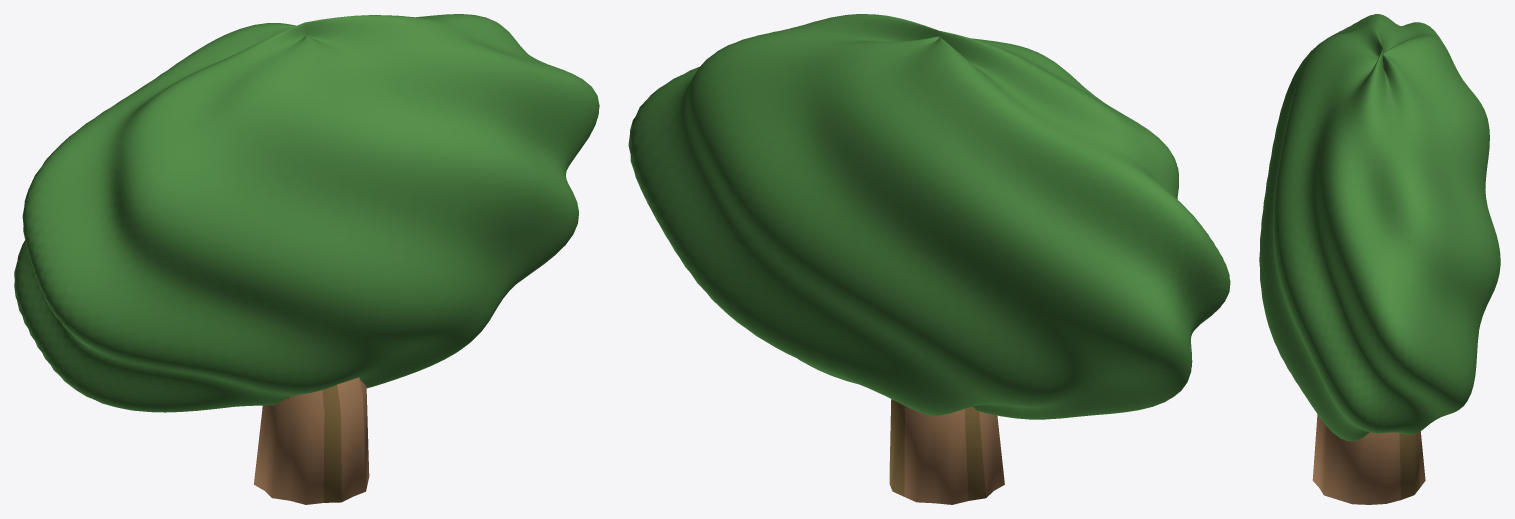
File: 04_g3640_6_broad_tree.glb
3 renders of one model, left to right at view 1: azimuth 30°, elevation 25°; view 2: azimuth 150°, elevation 25°; view 3: azimuth 270°, elevation 25°, orthographic. The views are drawn at different scales.
Parts seen in each view (by area): view 1: Wide flattened organic crown, Short stout broad tree trunk; view 2: Wide flattened organic crown, Short stout broad tree trunk; view 3: Wide flattened organic crown, Short stout broad tree trunk.
Part boxes in pixels (left/top/right/bottom): Wide flattened organic crown: left=14, top=14, right=599, bottom=412; Short stout broad tree trunk: left=254, top=377, right=369, bottom=504; Wide flattened organic crown: left=628, top=14, right=1230, bottom=419; Short stout broad tree trunk: left=889, top=399, right=1004, bottom=504; Wide flattened organic crown: left=1259, top=14, right=1500, bottom=441; Short stout broad tree trunk: left=1312, top=414, right=1425, bottom=504.
Size of the model in its own units: 5.57 by 4.21 by 2.12.
